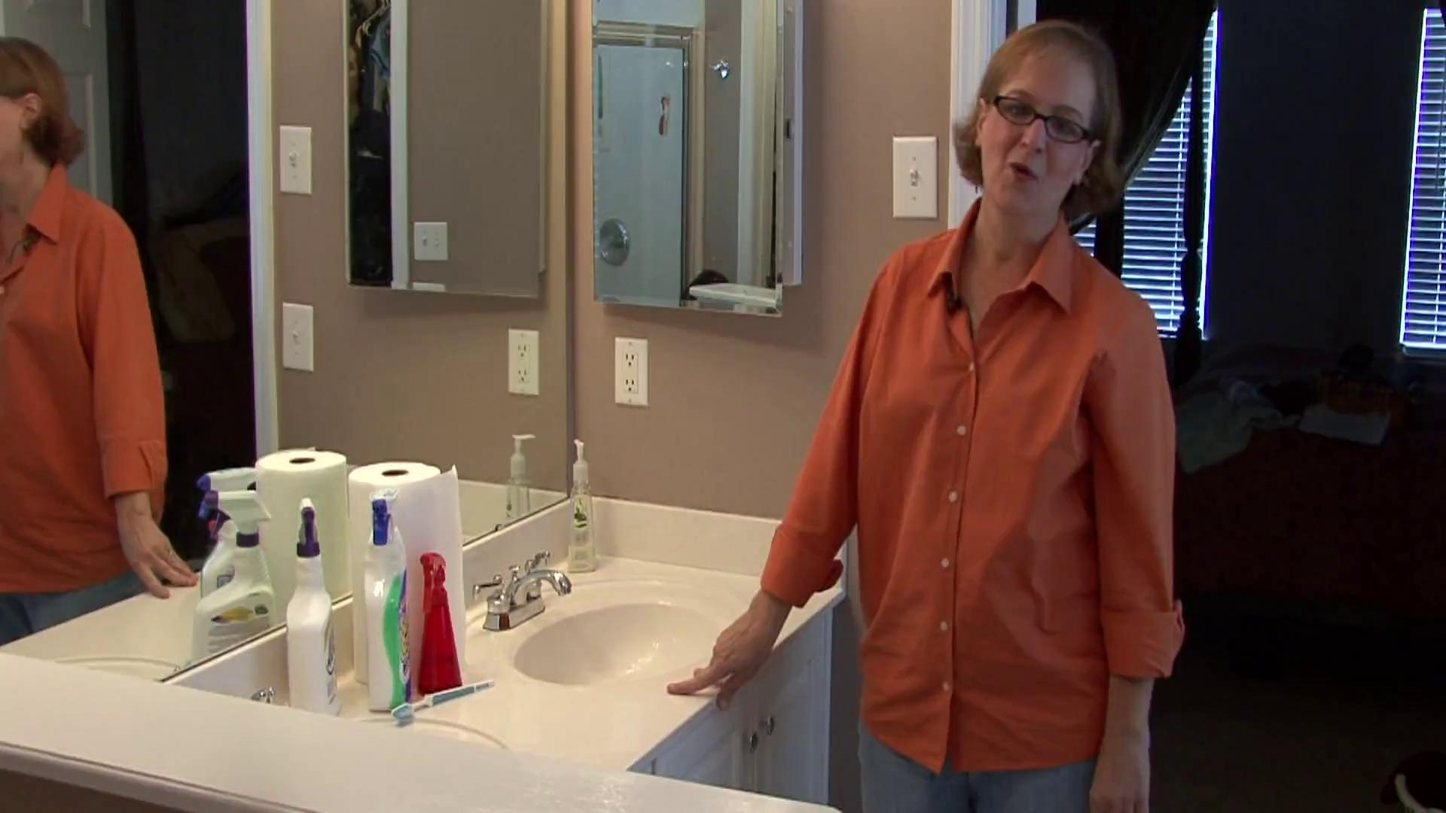victim: (664, 20, 1188, 810), (0, 33, 206, 679)
